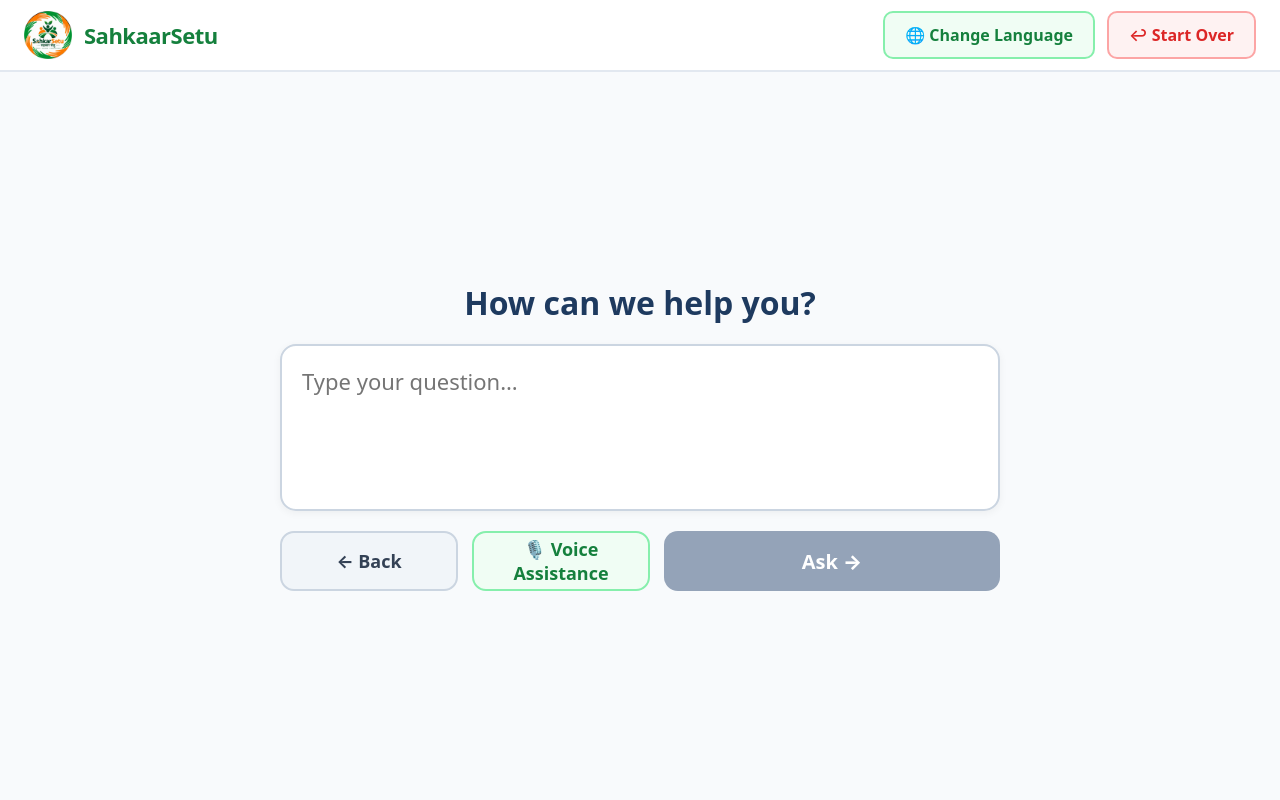
Test: K5: Text Query Interface & Pipeline › 8. renders user question and assistant answer with clean kiosk formatting
Type "How to get seeds?" into the text box with placeholder "Type your question…" at x=640, y=428, box [280,344,1000,511]
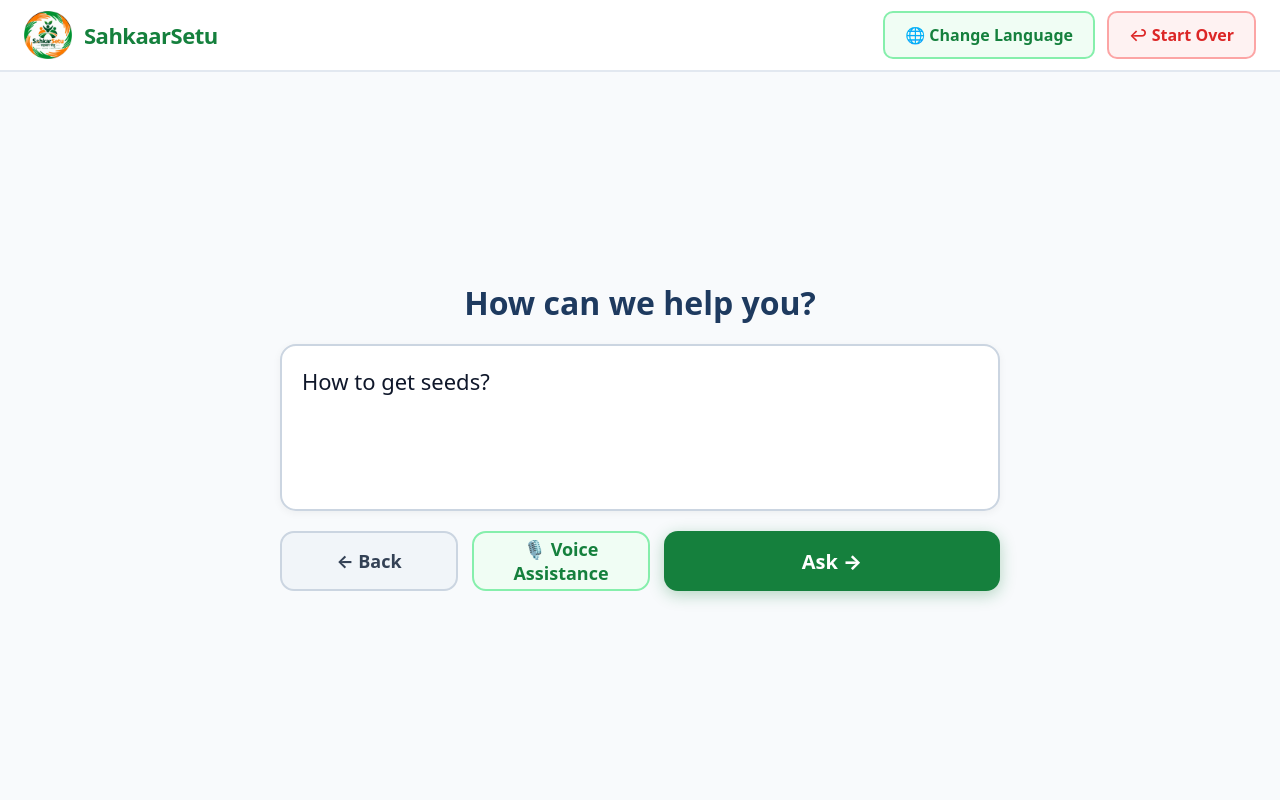
Click the button "Ask →" at x=832, y=561, box [664,531,1000,591]
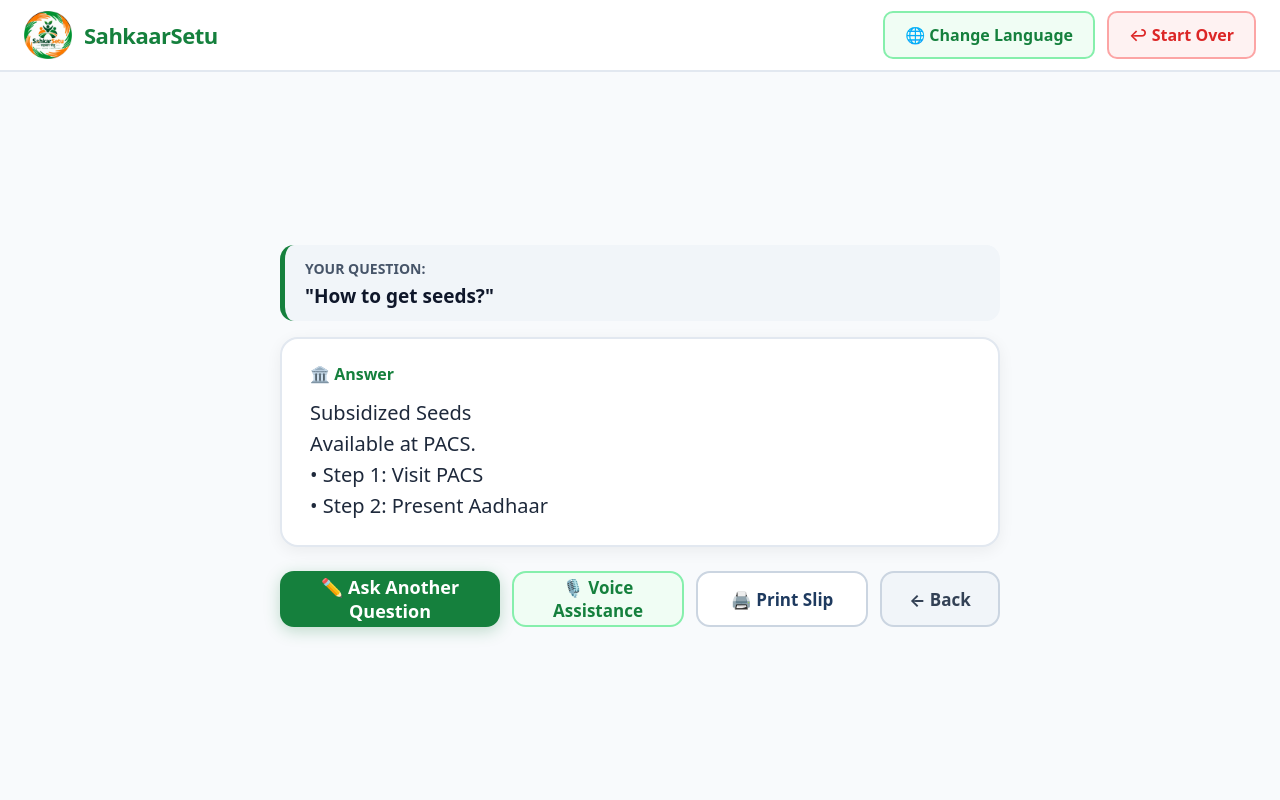
Result: the text "\"How to get seeds?\"" is shown at [305,283,494,309]
Result: the text "• Step 1: Visit PACS" is shown at [310,399,548,519]
